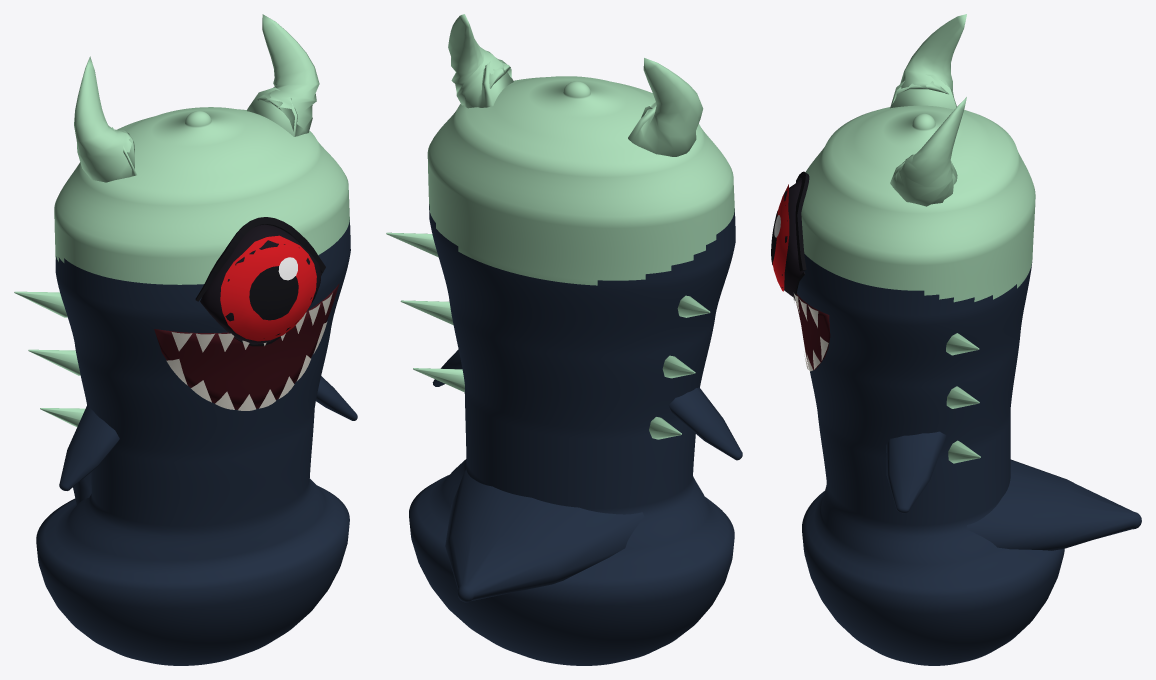
The model's file is frostfang.fbx.
3 renders of one model, left to right at view 1: azimuth 30°, elevation 25°; view 2: azimuth 150°, elevation 25°; view 3: azimuth 270°, elevation 25°, orthographic. The views are drawn at different scales.
Visible parts, largest first — view 1: Slug_frostfang; view 2: Slug_frostfang; view 3: Slug_frostfang.
Boxes of the visible parts, x1,y1,x2,y2 form: Slug_frostfang: (14, 14, 357, 665); Slug_frostfang: (386, 14, 742, 665); Slug_frostfang: (771, 14, 1141, 665).
Size of the model in its own units: 0.3973 by 0.736 by 0.4172.
